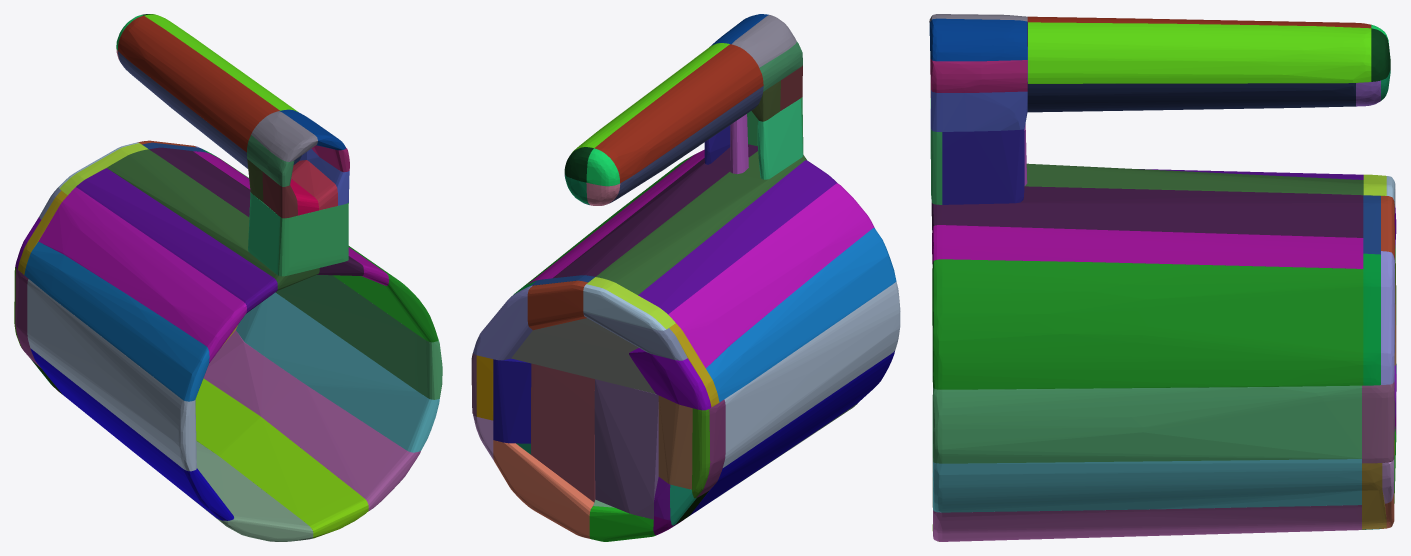
Rendered from coacd_collision.obj.
The picture shows the model from 3 angles, left to right: view 1: azimuth 30°, elevation 25°; view 2: azimuth 150°, elevation 25°; view 3: azimuth 270°, elevation 25°; orthographic projection. The views are drawn at different scales.
Parts seen in each view (by area): view 1: geometry_22, geometry_7, geometry_2, geometry_6, geometry_4, geometry_29, geometry_15, geometry_3, geometry_27, geometry_19, geometry_0, geometry_5 (+18 smaller); view 2: geometry_22, geometry_6, geometry_29, geometry_15, geometry_1, geometry_27, geometry_19, geometry_13, geometry_35, geometry_26, geometry_5, geometry_9 (+30 smaller); view 3: geometry_8, geometry_3, geometry_2, geometry_17, geometry_26, geometry_14, geometry_7, geometry_21, geometry_19, geometry_18, geometry_42, geometry_47 (+12 smaller).
Boxes of the visible parts, x1,y1,x2,y2 form: geometry_22: (38,187,246,363); geometry_7: (203,330,420,510); geometry_2: (236,292,439,452); geometry_6: (27,279,196,471); geometry_4: (195,378,368,538); geometry_29: (24,241,209,401); geometry_15: (118,15,279,152); geometry_3: (275,275,442,399); geometry_27: (76,168,277,313); geometry_19: (107,149,319,290); geometry_0: (191,441,313,541); geometry_5: (30,348,233,520); geometry_22: (668,183,874,368); geometry_6: (723,281,900,467); geometry_29: (706,228,896,402); geometry_15: (594,44,763,183); geometry_1: (594,379,658,519); geometry_27: (638,160,837,314); geometry_19: (596,151,806,294); geometry_13: (530,363,595,502); geometry_35: (511,318,655,393); geometry_26: (553,144,757,278); geometry_5: (688,351,894,516); geometry_9: (493,440,593,538); geometry_8: (932,259,1363,389); geometry_3: (932,385,1361,463); geometry_2: (932,459,1361,512); geometry_17: (1028,22,1371,83); geometry_26: (931,186,1363,237); geometry_14: (932,225,1363,268); geometry_7: (933,505,1361,541); geometry_21: (1027,82,1355,112); geometry_19: (1024,163,1363,195); geometry_18: (942,129,1024,204); geometry_42: (929,18,1027,61); geometry_47: (930,90,1027,131).
Bounding box in the file's own units: 85.12 × 125 × 104.
